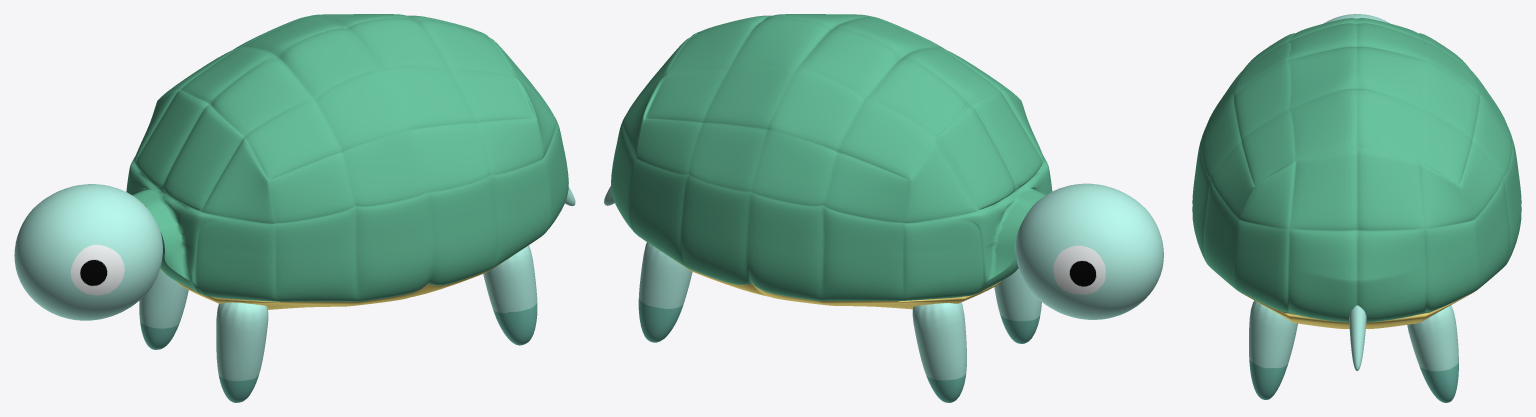
Rendered from turtle_coloured.fbx.
The picture shows the model from 3 angles, left to right: view 1: azimuth 30°, elevation 25°; view 2: azimuth 150°, elevation 25°; view 3: azimuth 270°, elevation 25°; orthographic projection. The views are drawn at different scales.
Parts seen in each view (by area): view 1: Roundcube, Roundcube.007, Roundcube.005, Roundcube.004, Roundcube.006; view 2: Roundcube, Roundcube.007, Roundcube.006, Roundcube.003, Roundcube.005; view 3: Roundcube, Roundcube.004, Roundcube.003, Roundcube.002.
Part boxes in pixels (x1=…): Roundcube: x1=126, y1=14, x2=568, y2=309; Roundcube.007: x1=14, y1=184, x2=162, y2=320; Roundcube.005: x1=216, y1=302, x2=268, y2=402; Roundcube.004: x1=483, y1=245, x2=537, y2=345; Roundcube.006: x1=139, y1=269, x2=188, y2=349; Roundcube: x1=611, y1=14, x2=1052, y2=309; Roundcube.007: x1=1015, y1=183, x2=1163, y2=319; Roundcube.006: x1=912, y1=302, x2=966, y2=402; Roundcube.003: x1=638, y1=242, x2=692, y2=342; Roundcube.005: x1=994, y1=268, x2=1041, y2=343; Roundcube: x1=1192, y1=18, x2=1521, y2=329; Roundcube.004: x1=1249, y1=300, x2=1297, y2=399; Roundcube.003: x1=1407, y1=305, x2=1458, y2=402; Roundcube.002: x1=1349, y1=305, x2=1366, y2=370.
Size of the model in its own units: 237 by 129 by 129.
7 materials, 7 textured.
